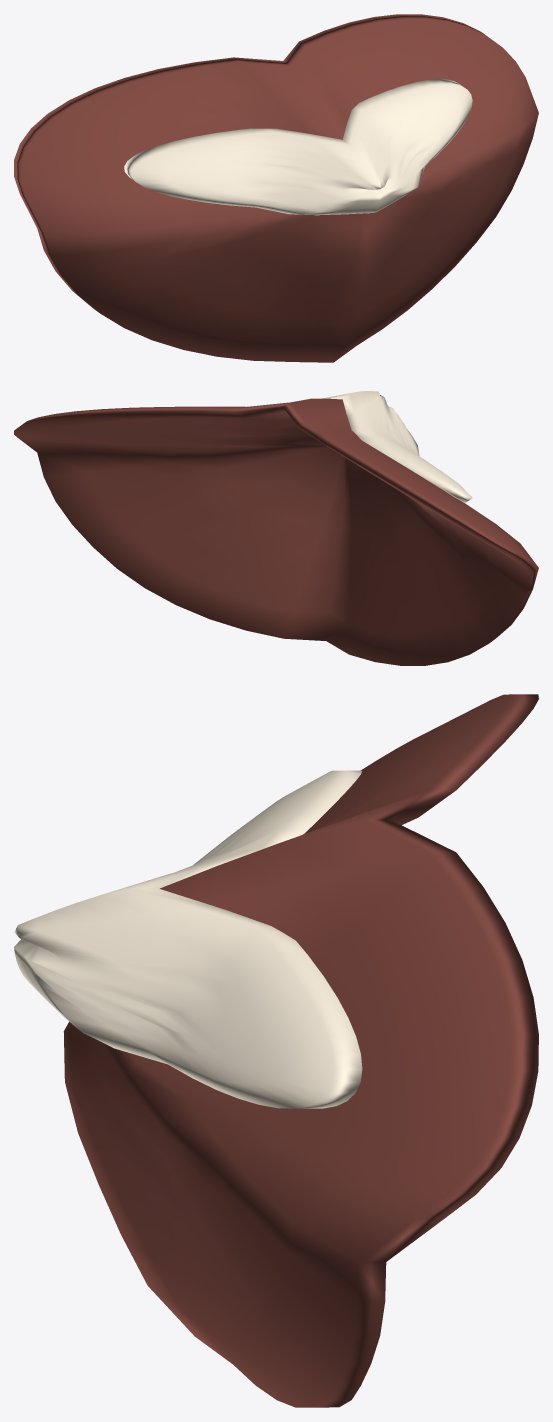
The model's file is 3HT-masculino.glb.
3 views of the same model, one above another, from view 1: azimuth 30°, elevation 25°; view 2: azimuth 150°, elevation 25°; view 3: azimuth 270°, elevation 25° (orthographic). The views are drawn at different scales.
Visible parts, largest first — view 1: open-smile, smile-detail; view 2: open-smile, smile-detail; view 3: open-smile, smile-detail.
Part boxes in pixels (x1,y1,x2,y2): open-smile: [14, 14, 538, 362]; smile-detail: [124, 79, 472, 215]; open-smile: [14, 398, 538, 665]; smile-detail: [246, 391, 472, 503]; open-smile: [63, 694, 538, 1407]; smile-detail: [14, 770, 362, 1108].
Bounding box in the file's own units: 0.00992 × 0.00503 × 0.00464.
